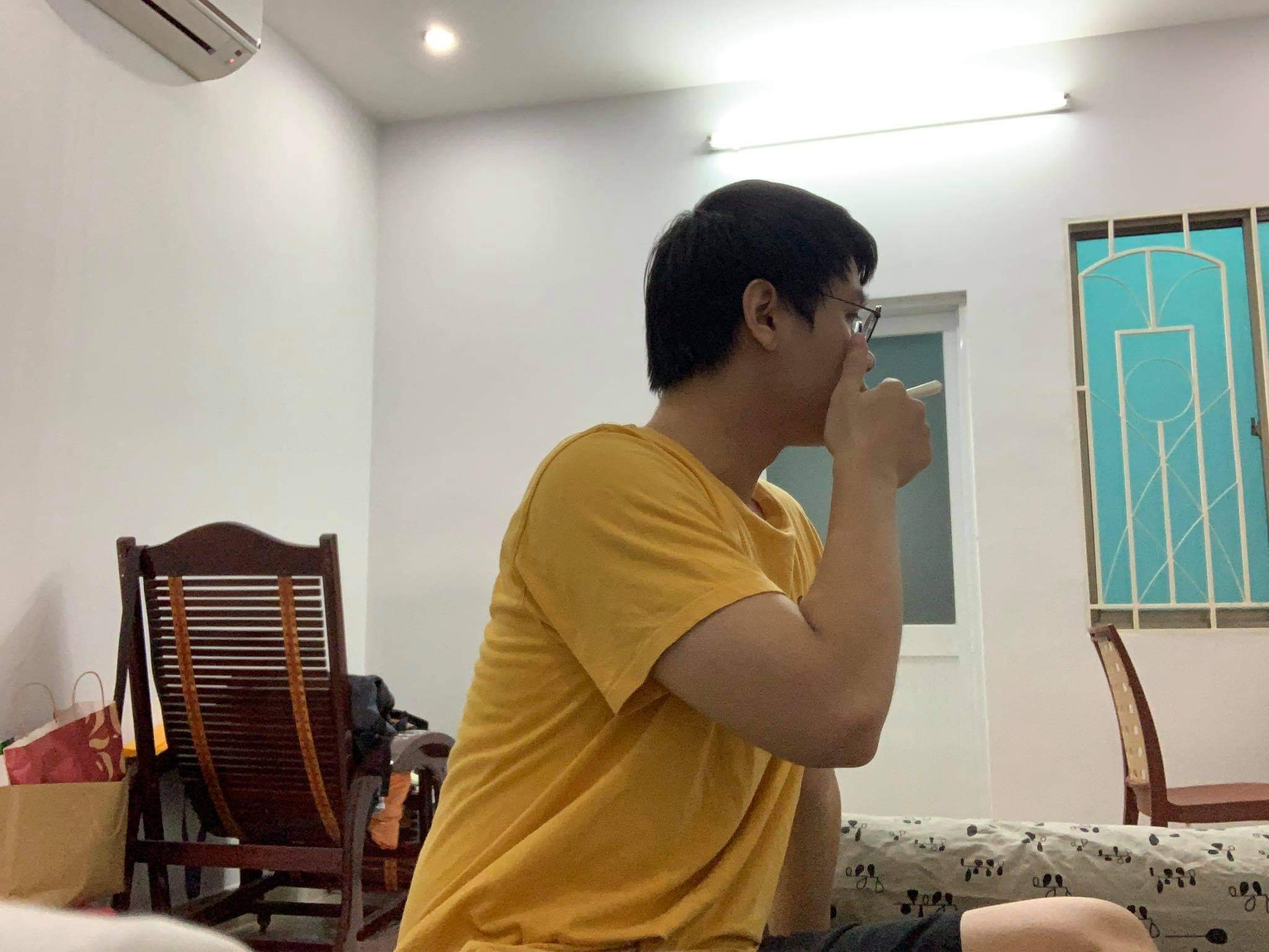cigarette: (907, 372, 950, 403)
person: (394, 193, 953, 948)
